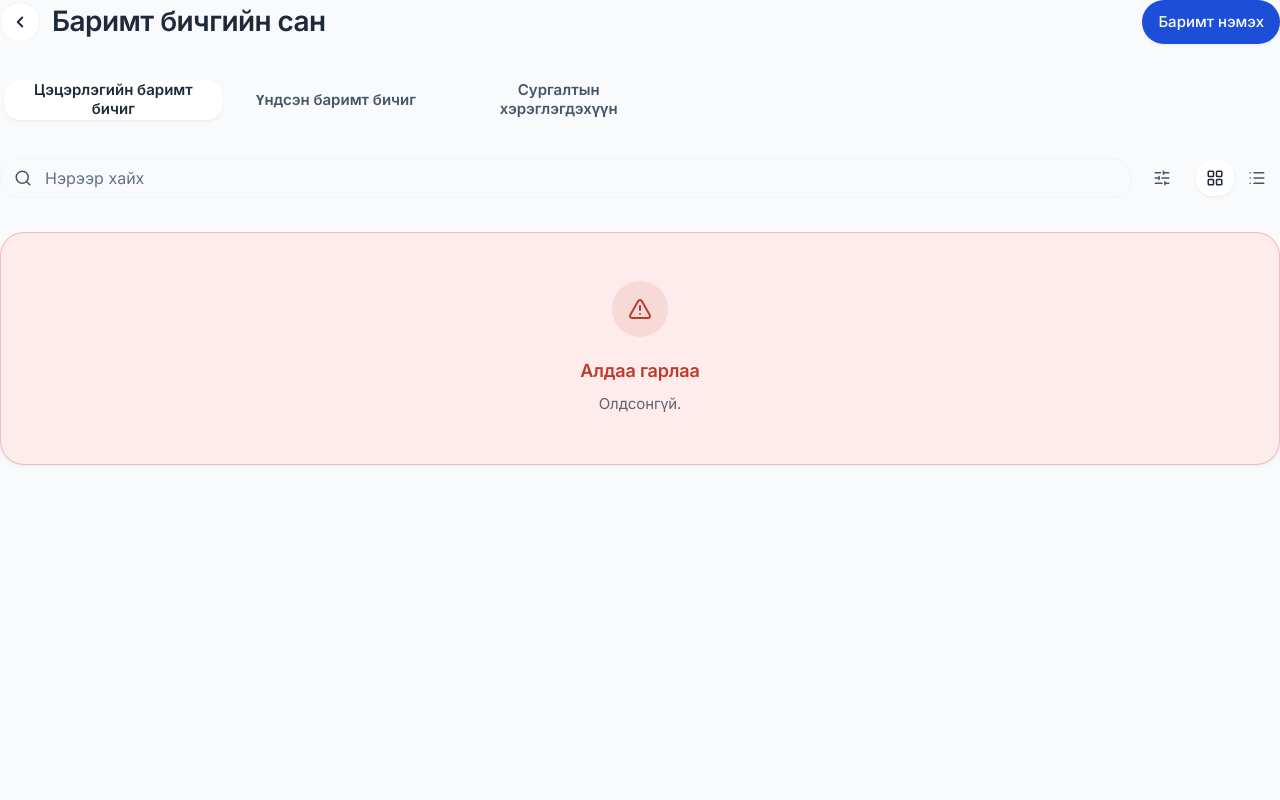
Test case: the teaching materials tab › buys a material through QPay and says so once it is paid
What coordinates should you click on to do the following:
click the tab "Сургалтын хэрэглэгдэхүүн"
I would click on:
 (559, 100)
Its box is 449,80 -> 668,120.
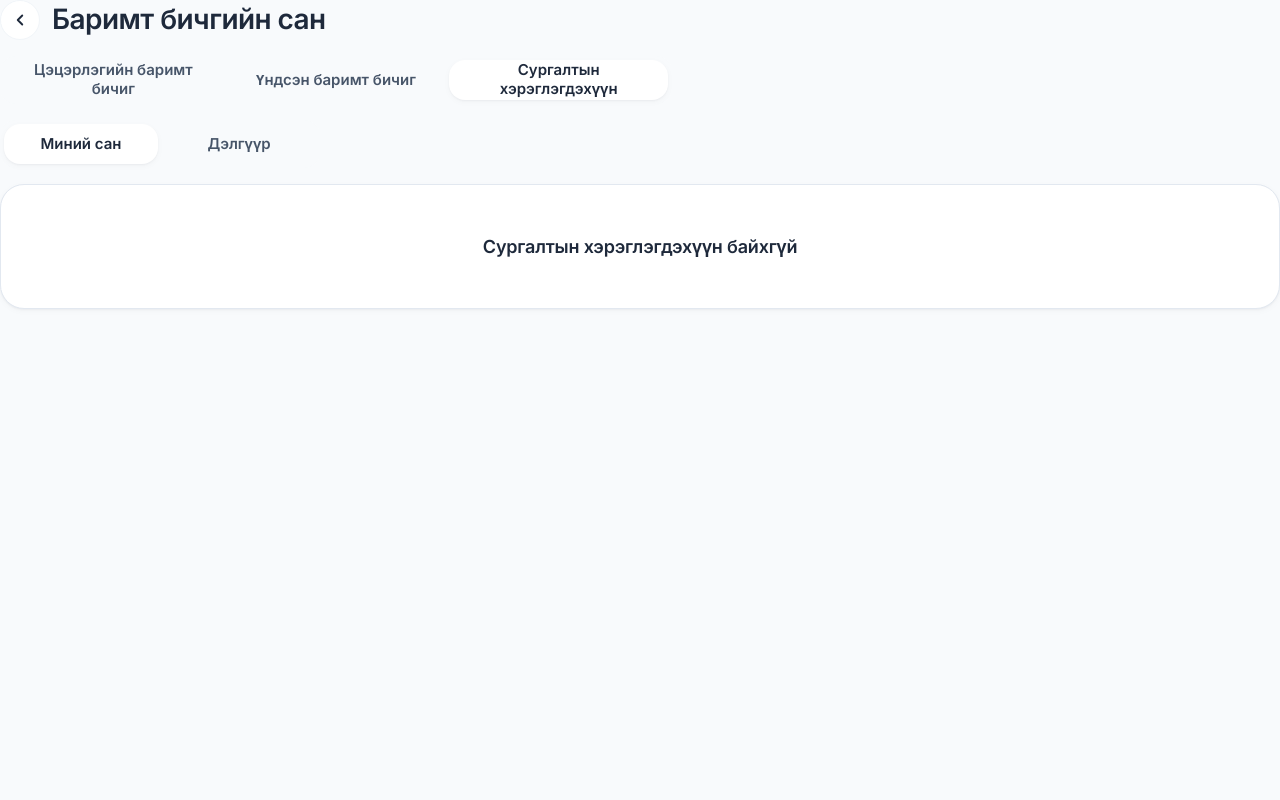
What coordinates should you click on to do the following:
click the tab "Дэлгүүр"
I would click on:
 (239, 144)
Its box is 162,124 -> 316,164.
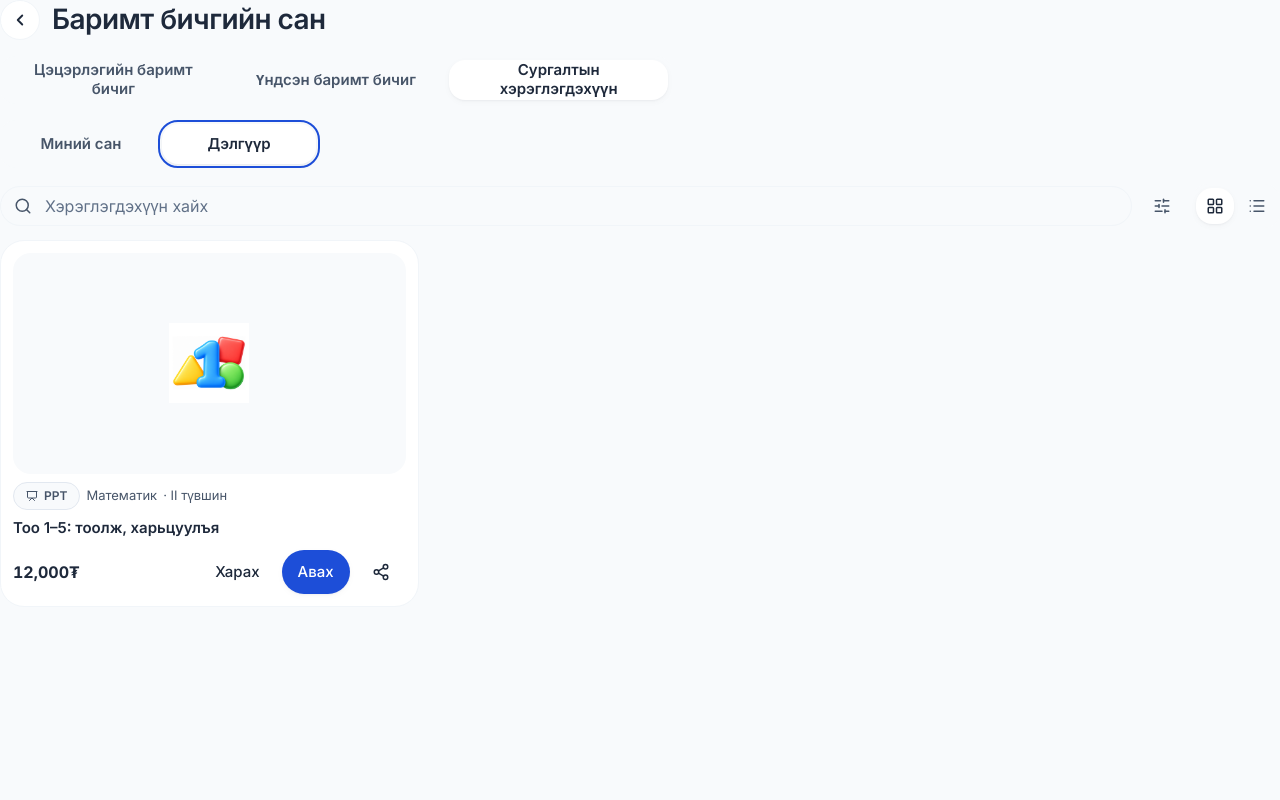
Expected: the text "12,000₮" is shown, 13,560 -> 80,584
What coordinates should you click on to do the following:
click the button "Авах"
I would click on:
 (316, 572)
Its box is 282,550 -> 350,594.
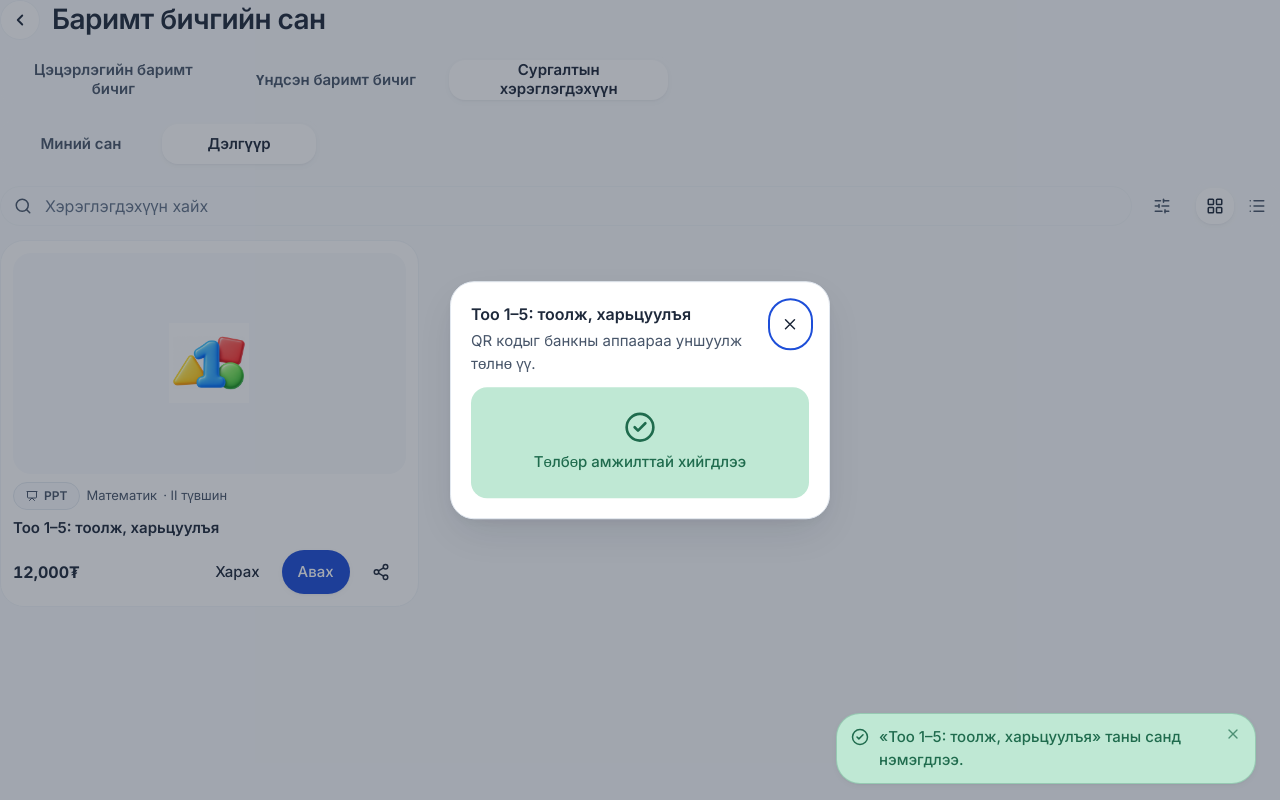
Expected: the text "Төлбөр амжилттай хийгдлээ" is shown, 534,451 -> 746,474
